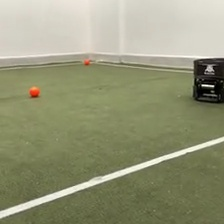ball: (28, 84, 41, 98), (82, 57, 91, 66)
robot: (190, 56, 224, 104)
